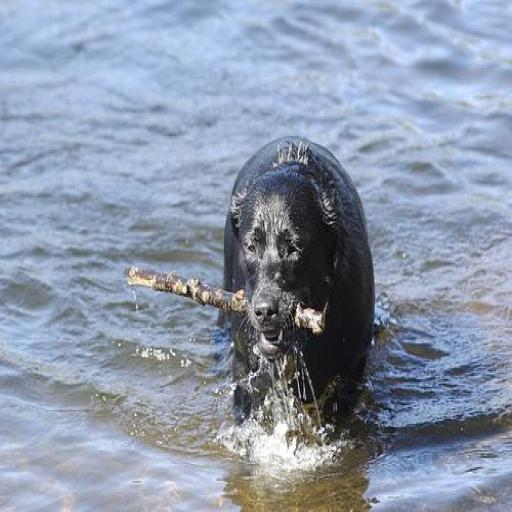dog_face: (229, 167, 340, 342)
